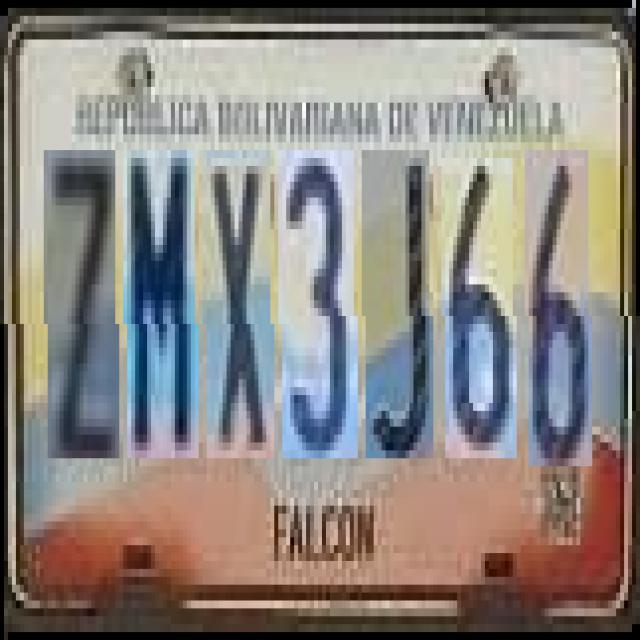3: (282, 150, 358, 458)
6: (445, 158, 517, 458), (528, 150, 592, 466)
J: (366, 150, 434, 458)
M: (128, 150, 198, 458)
X: (207, 150, 274, 458)
Z: (48, 150, 120, 458)
